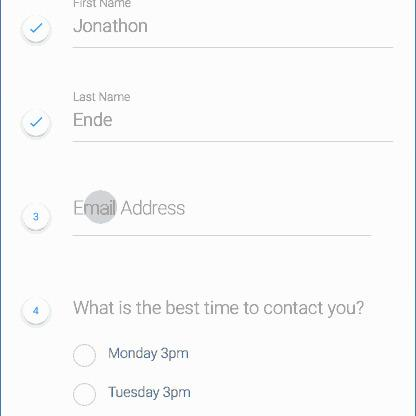field: (70, 90, 396, 144), (70, 192, 372, 240)
radio: (72, 341, 98, 369), (72, 382, 97, 408)
radio_with_label: (66, 379, 197, 410), (68, 339, 190, 371)
